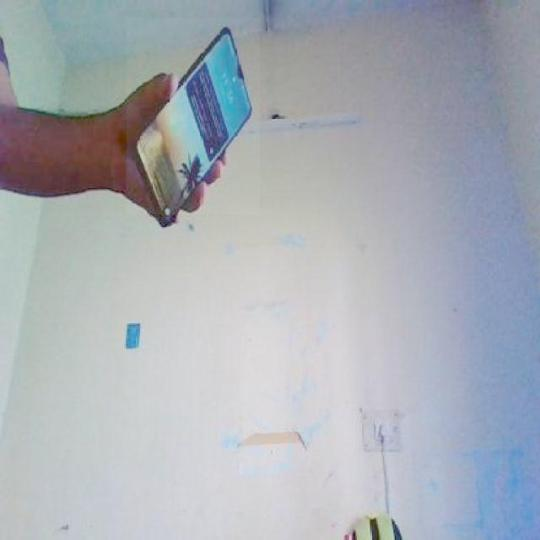phone: (117, 10, 268, 224)
